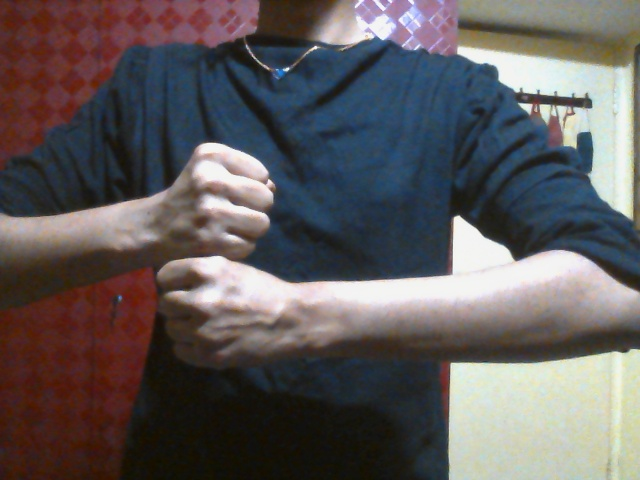G: (154, 141, 298, 373)
